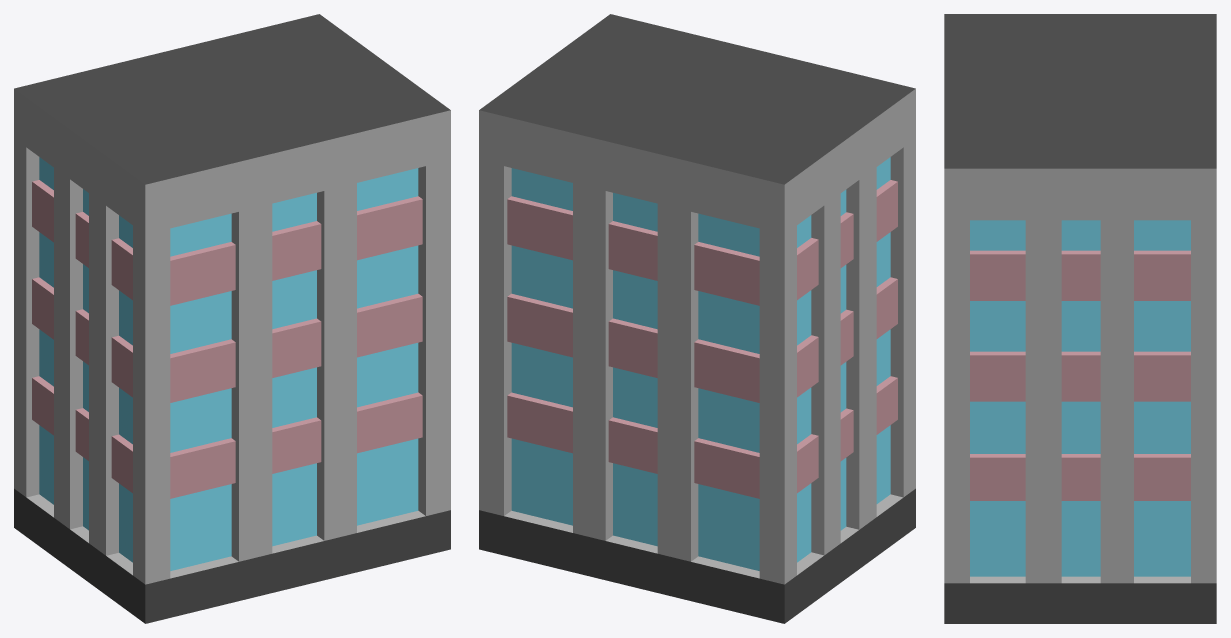
File: Building_01.fbx
3 renders of one model, left to right at view 1: azimuth 30°, elevation 25°; view 2: azimuth 150°, elevation 25°; view 3: azimuth 270°, elevation 25°, orthographic. The views are drawn at different scales.
Parts seen in each view (by area): view 1: Building_04; view 2: Building_04; view 3: Building_04.
Part boxes in pixels (x1=…): Building_04: x1=14, y1=14, x2=450, y2=623; Building_04: x1=479, y1=14, x2=915, y2=623; Building_04: x1=944, y1=14, x2=1216, y2=623.
Bounding box in the file's own units: 2525 × 3468 × 1881.
